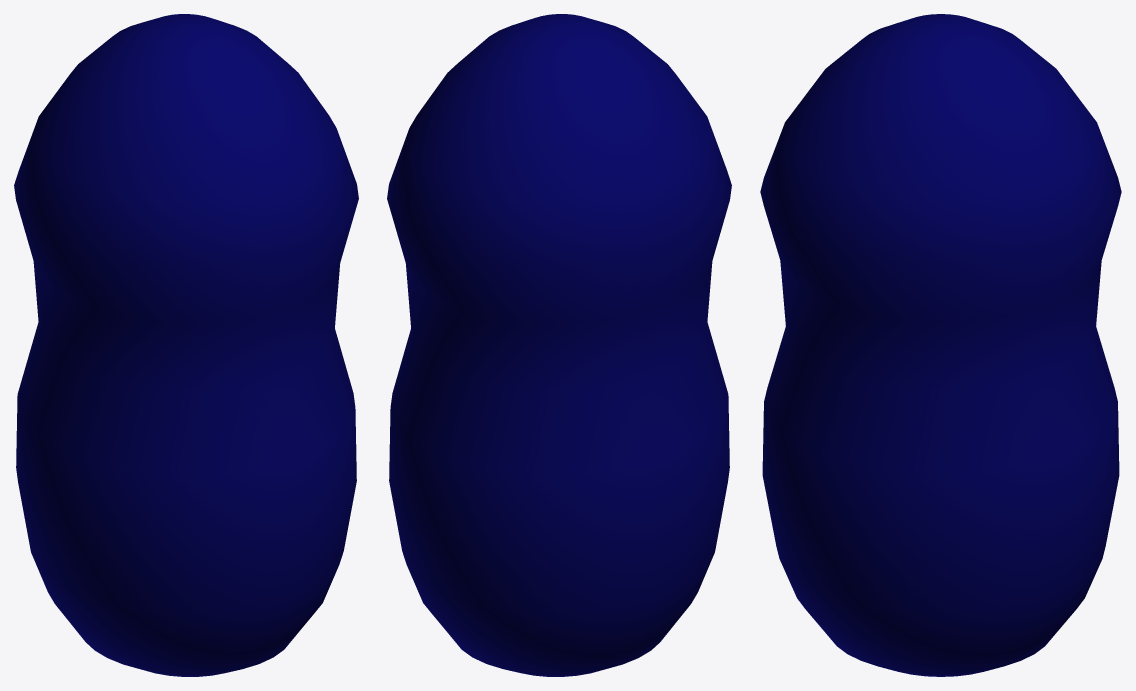
The model's file is rleg.gltf.
The picture shows the model from 3 angles, left to right: view 1: azimuth 30°, elevation 25°; view 2: azimuth 150°, elevation 25°; view 3: azimuth 270°, elevation 25°; orthographic projection.
Parts seen in each view (by area): view 1: Sphere.141; view 2: Sphere.141; view 3: Sphere.141.
Part boxes in pixels (bbox=[...]): Sphere.141: bbox=[14, 14, 358, 676]; Sphere.141: bbox=[387, 14, 731, 676]; Sphere.141: bbox=[760, 14, 1121, 676].
Bounding box in the file's own units: 0.0754 × 0.1549 × 0.0799.
1 material, 1 textured.
